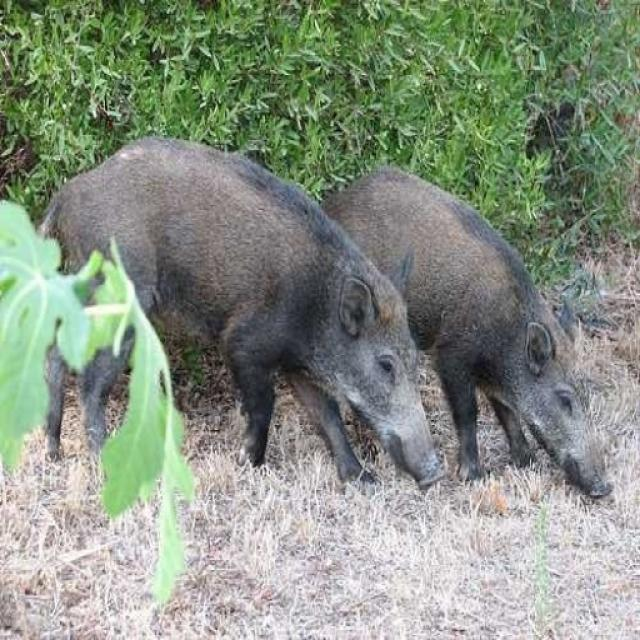pig: (24, 106, 448, 520), (297, 79, 640, 580)
